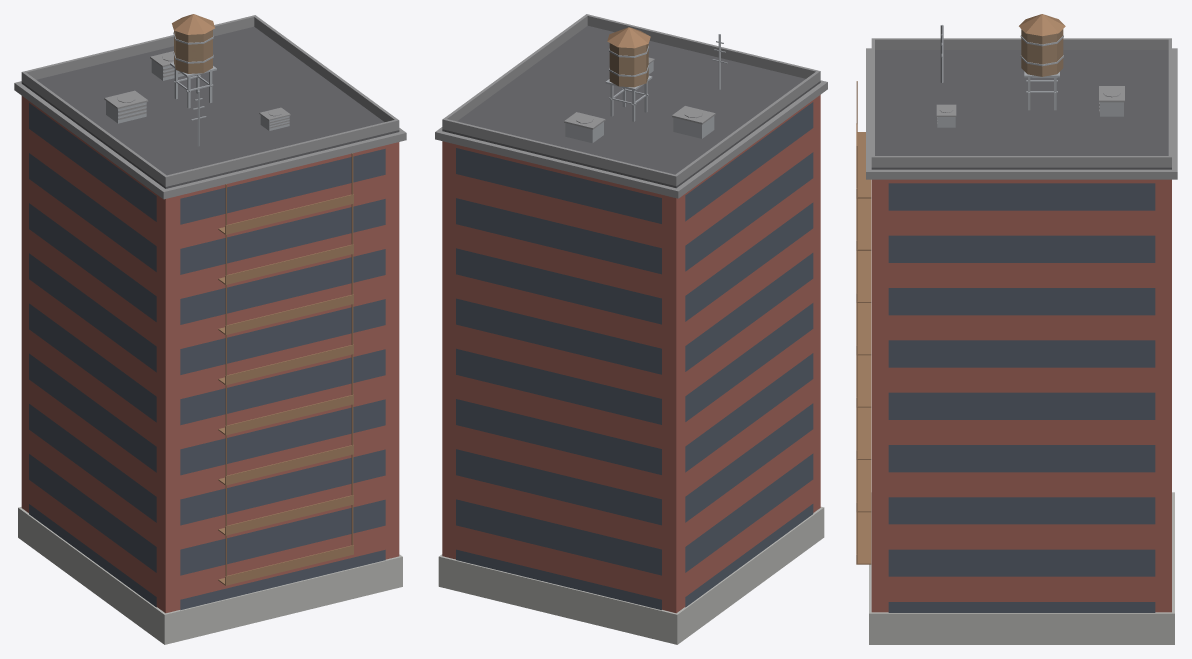
Rendered from bld_tenement_01.glb.
3 renders of one model, left to right at view 1: azimuth 30°, elevation 25°; view 2: azimuth 150°, elevation 25°; view 3: azimuth 270°, elevation 25°, orthographic. The views are drawn at different scales.
Parts seen in each view (by area): view 1: bld_tenement_01; view 2: bld_tenement_01; view 3: bld_tenement_01.
Boxes of the visible parts, bbox=[...] form: bld_tenement_01: bbox=[14, 14, 406, 644]; bld_tenement_01: bbox=[435, 14, 827, 644]; bld_tenement_01: bbox=[856, 14, 1177, 644].
Bounding box in the file's own units: 15.6 × 33.28 × 17.12.
